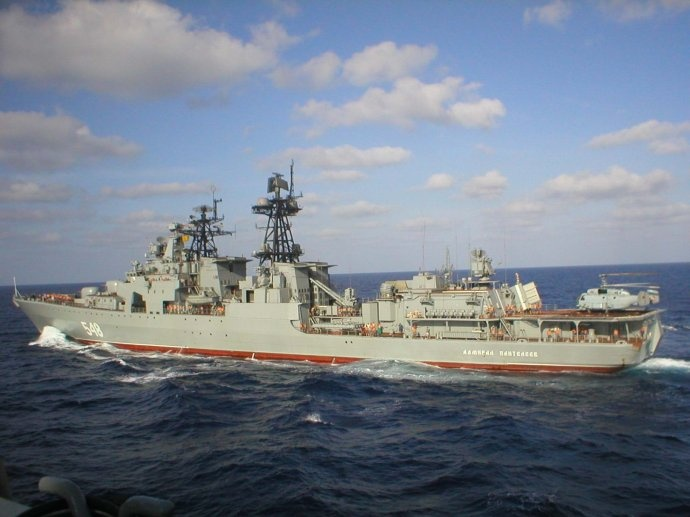warship: (2, 160, 672, 375)
